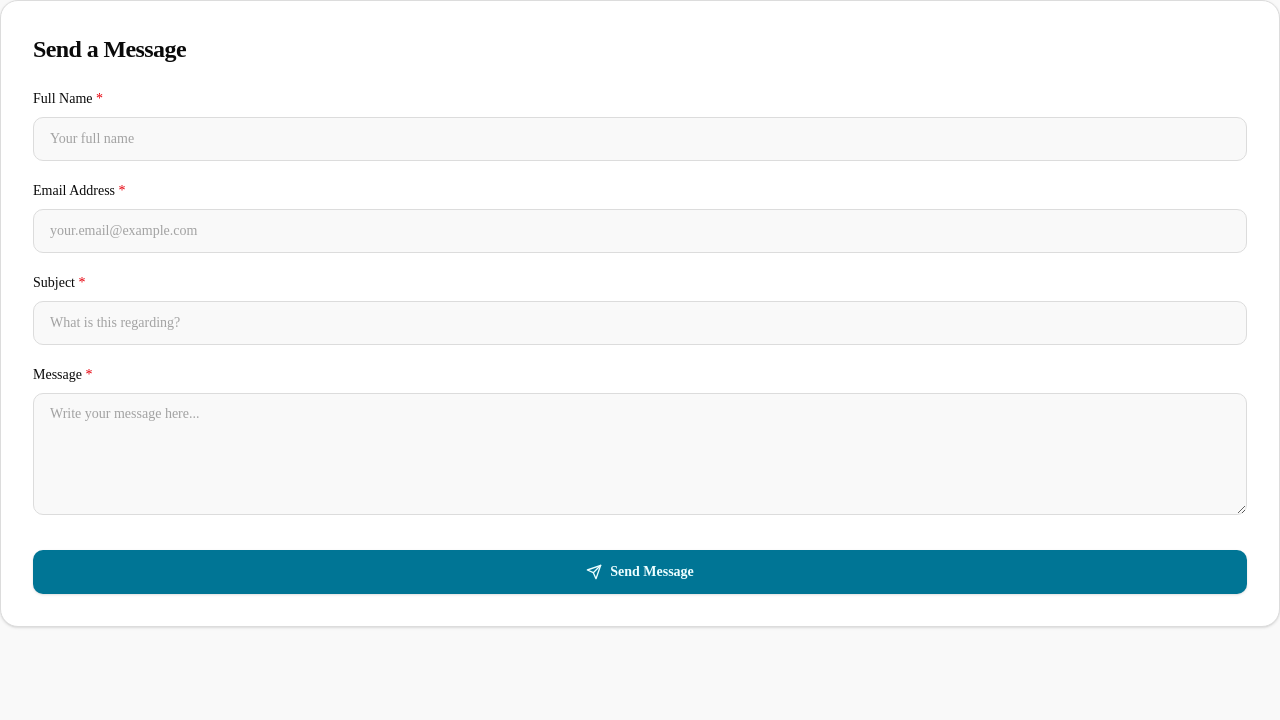
Test: ContactForm Component › validates invalid email address format
In the field labelled "Full Name *": (640,139) [33,117,1247,161], type "John Doe"
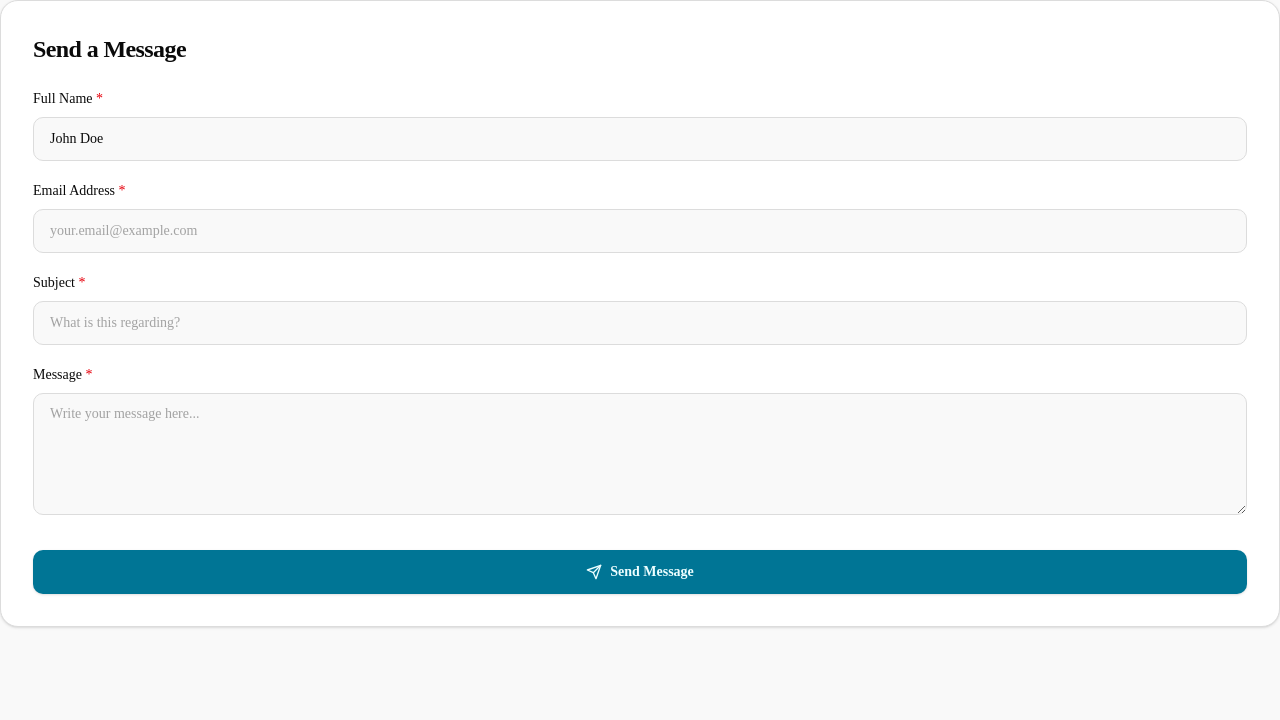
In the field labelled "Email Address *": (640,231) [33,209,1247,253], type "invalid-email"
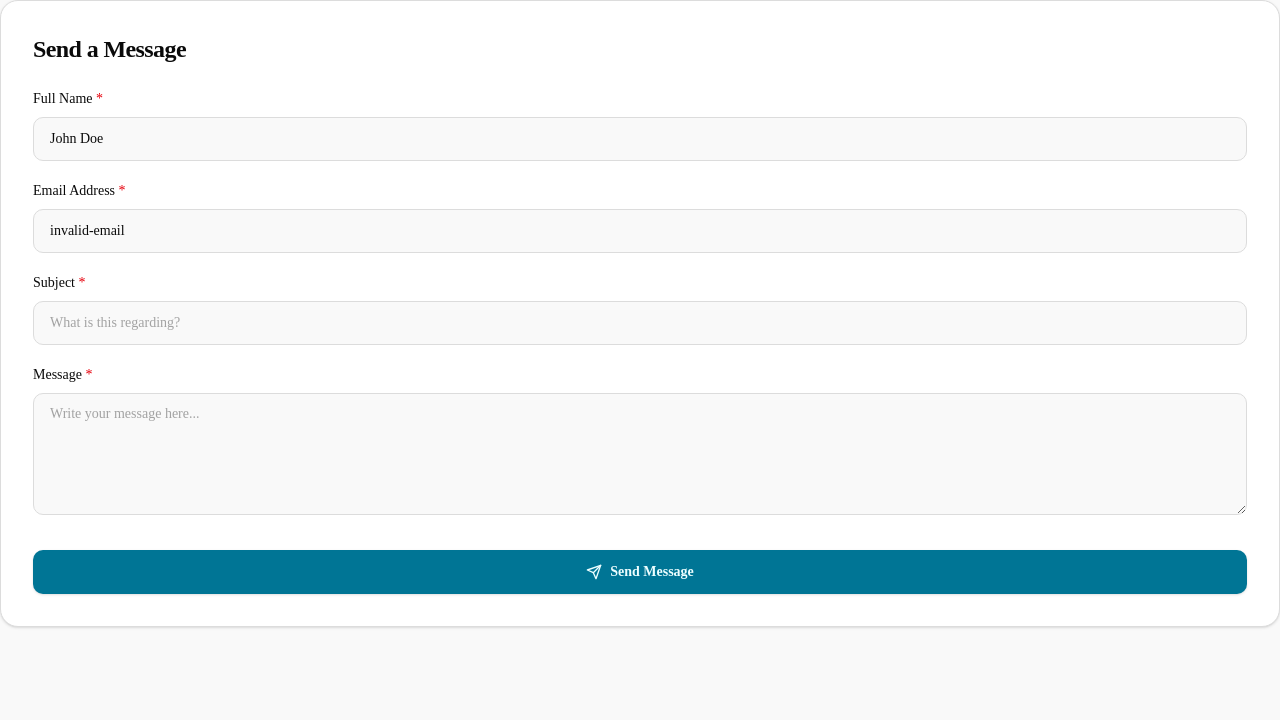
In the field labelled "Subject *": (640,323) [33,301,1247,345], type "Project Consultation"
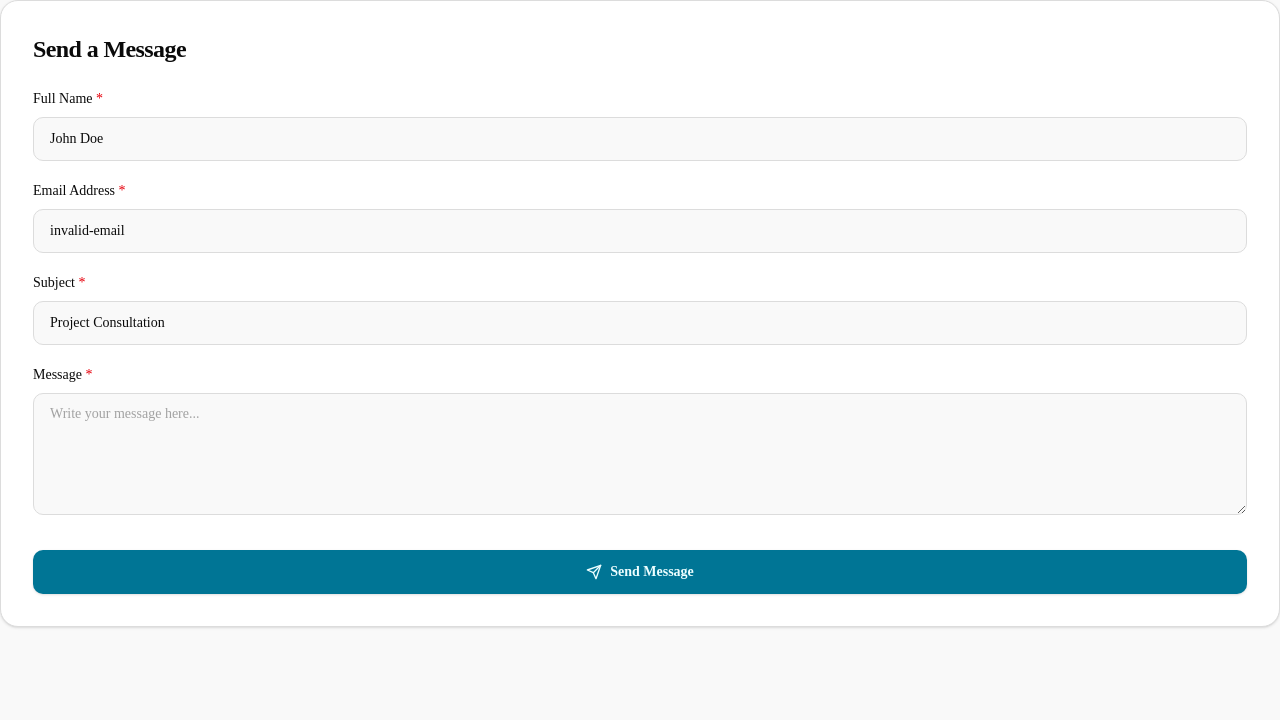
In the text box labelled "Message *": (640,454) [33,393,1247,515], type "Hello, this is a test message that is long enough."
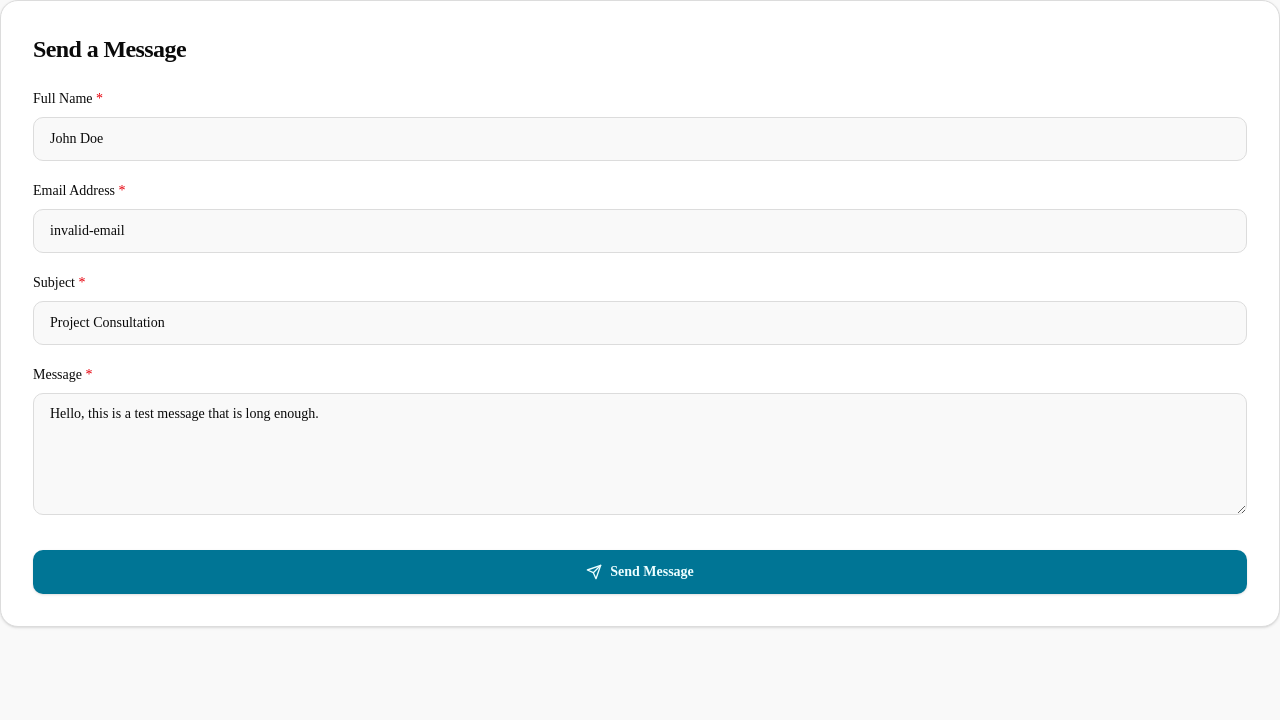
Click the button "Send Message": (640,572) [33,550,1247,594]
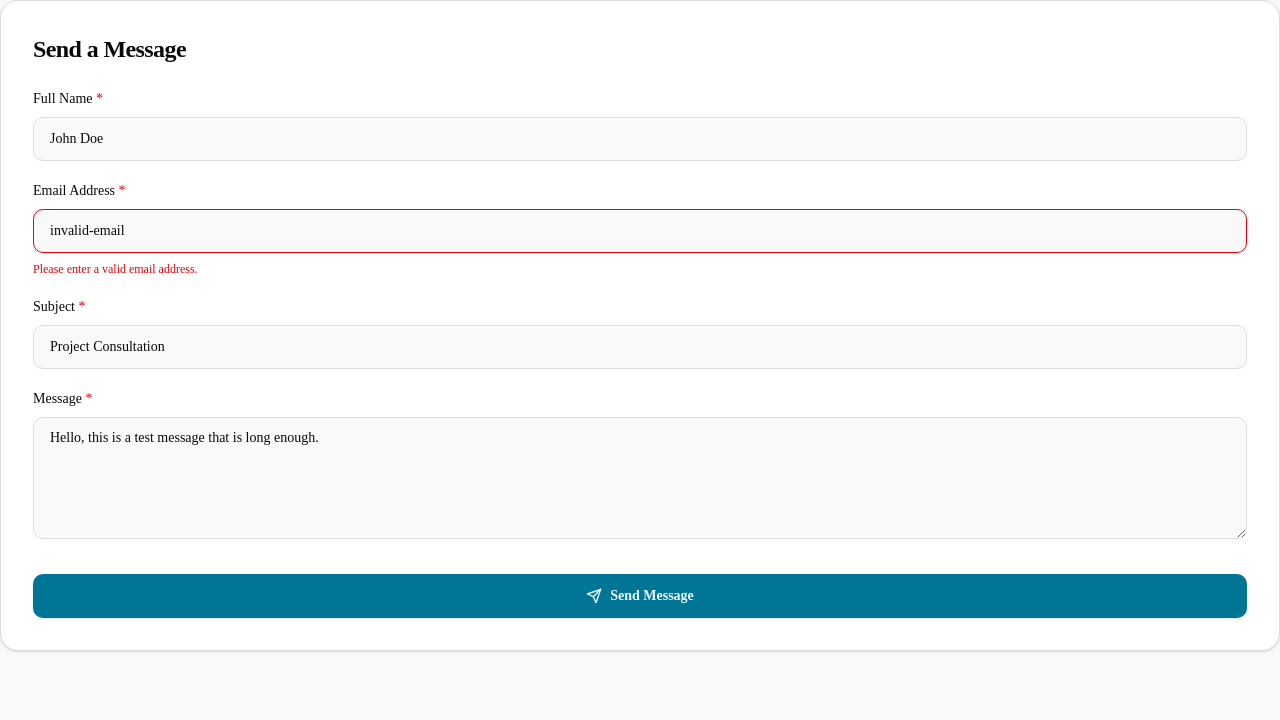
Expected: the text "Please enter a valid email address." is shown, [33,262,198,276]
